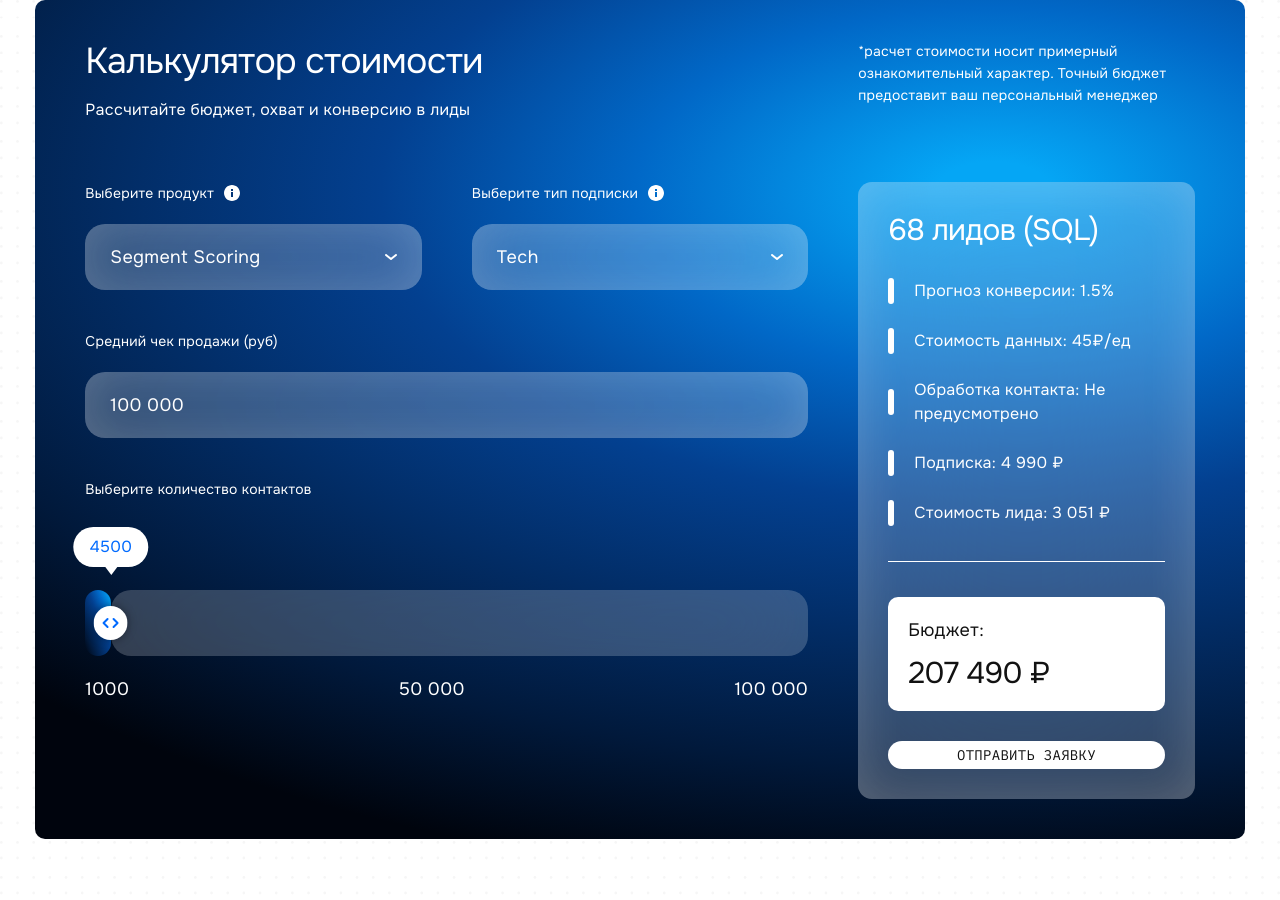
Calculator Component Tests › service selector dropdown works
Click the dropdown labelled "Segment Scoring" at (254, 257), box x1=85 y1=224 x2=422 y2=290
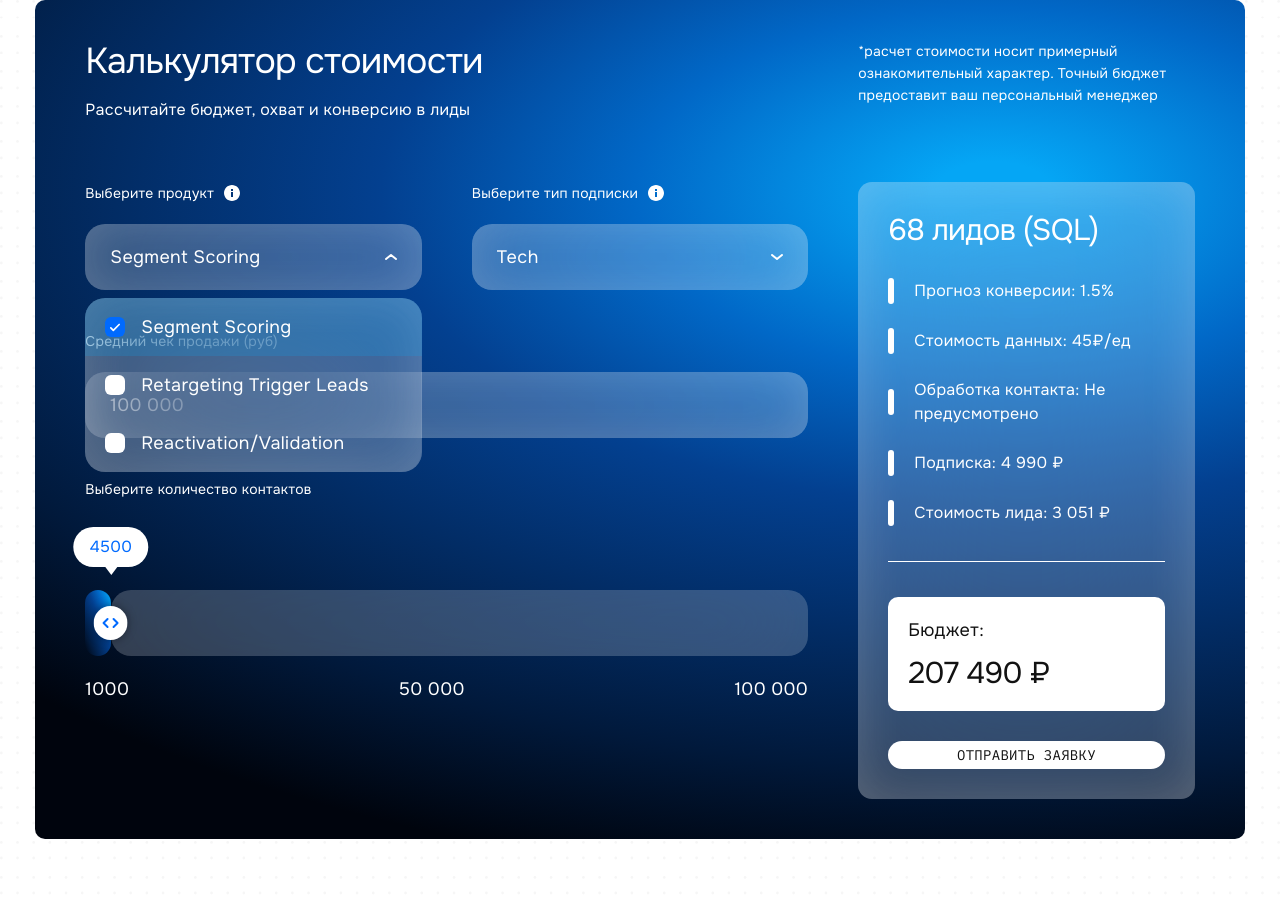
Result: the option "Retargeting Trigger Leads" is shown at x1=141 y1=374 x2=369 y2=396
Result: the option "Reactivation/Validation" is shown at x1=141 y1=432 x2=344 y2=454
